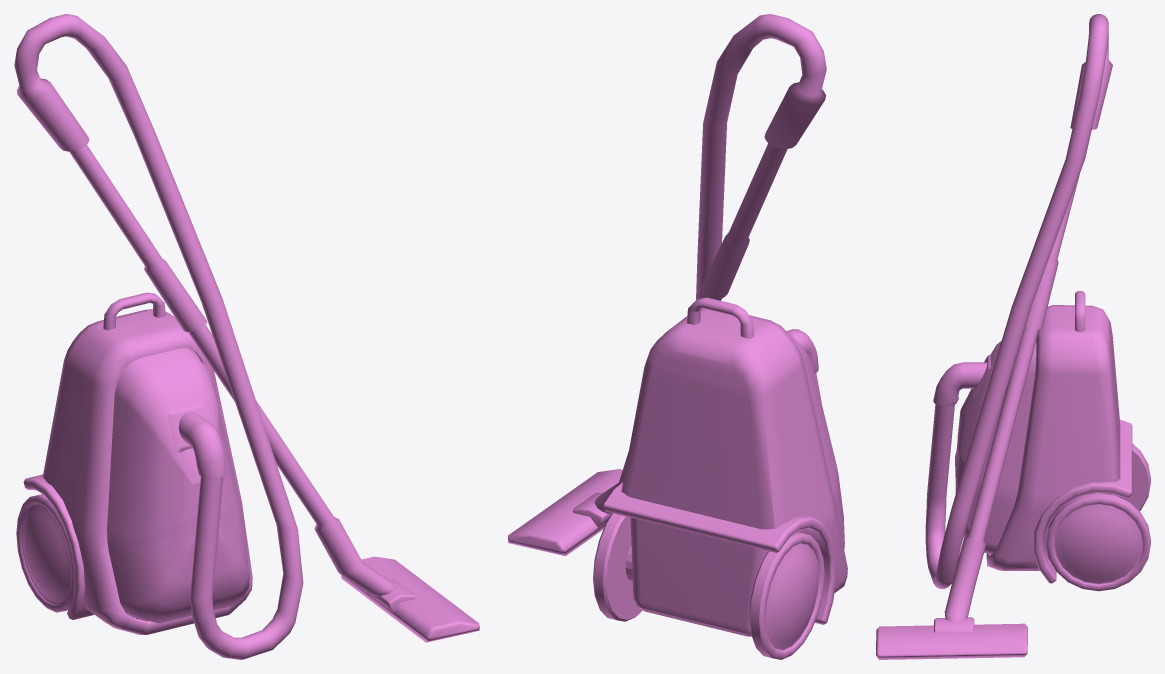
Rendered from Vacuum cleaner.fbx.
3 views of the same model, side by side, from view 1: azimuth 30°, elevation 25°; view 2: azimuth 150°, elevation 25°; view 3: azimuth 270°, elevation 25° (orthographic). The views are drawn at different scales.
Visible parts, largest first — view 1: polySurface1; view 2: polySurface1; view 3: polySurface1.
Part boxes in pixels (bbox=[...]): polySurface1: bbox=[14, 14, 479, 659]; polySurface1: bbox=[508, 14, 847, 659]; polySurface1: bbox=[876, 14, 1150, 659].
Bounding box in the file's own units: 0.9637 × 1.63 × 0.783.
